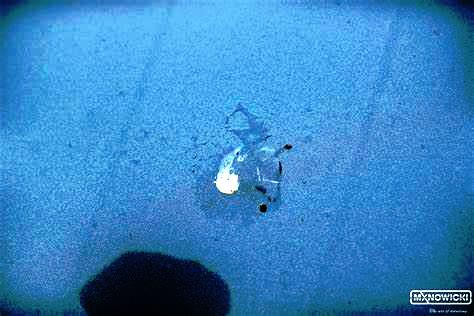Bird Poop: (200, 104, 292, 217)
